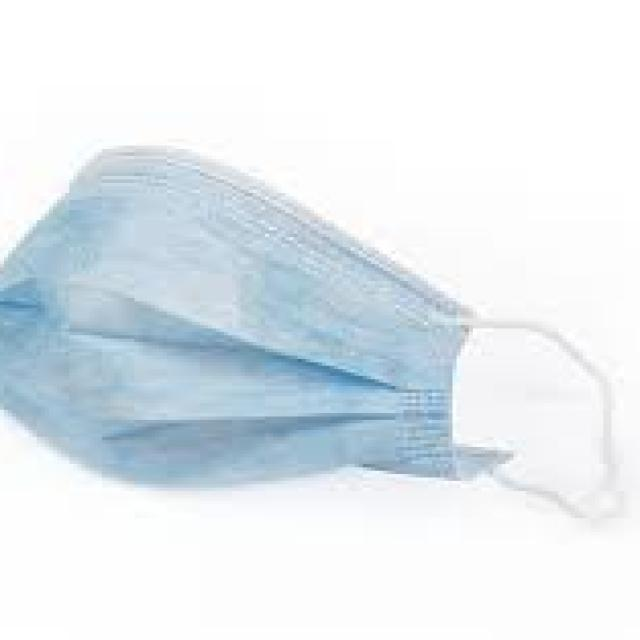organic: (12, 124, 595, 575)
